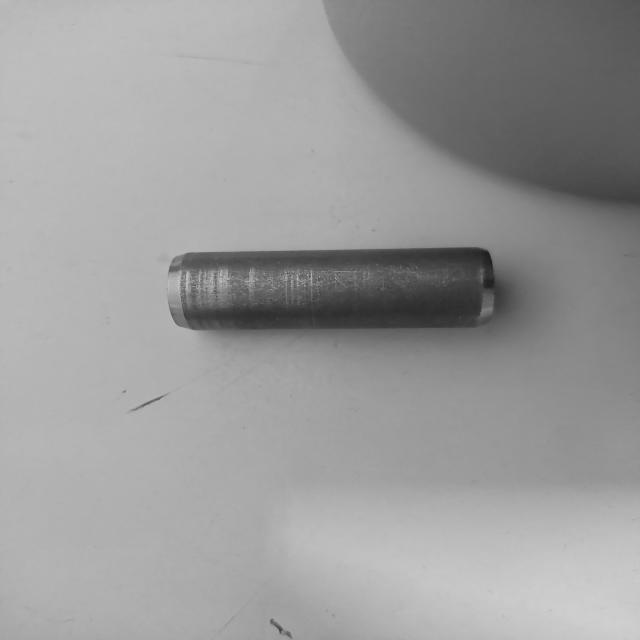Broken: (170, 246, 493, 332)
